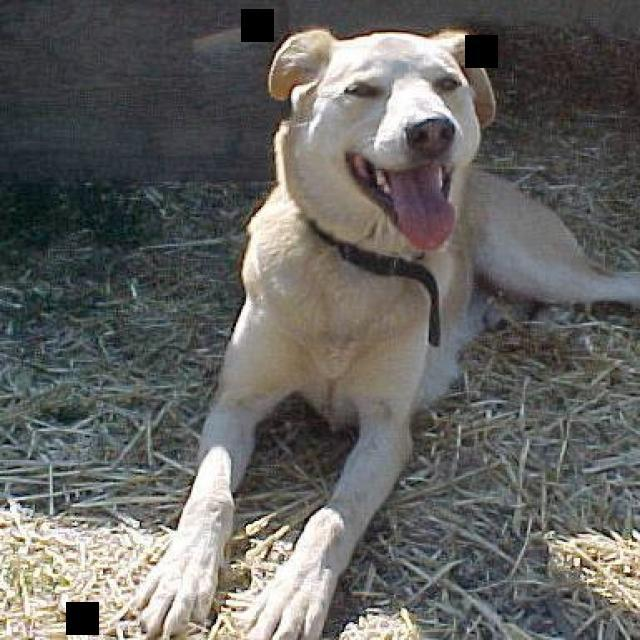adult_dog: (119, 26, 640, 640)
